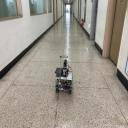cart: (54, 69, 72, 95)
